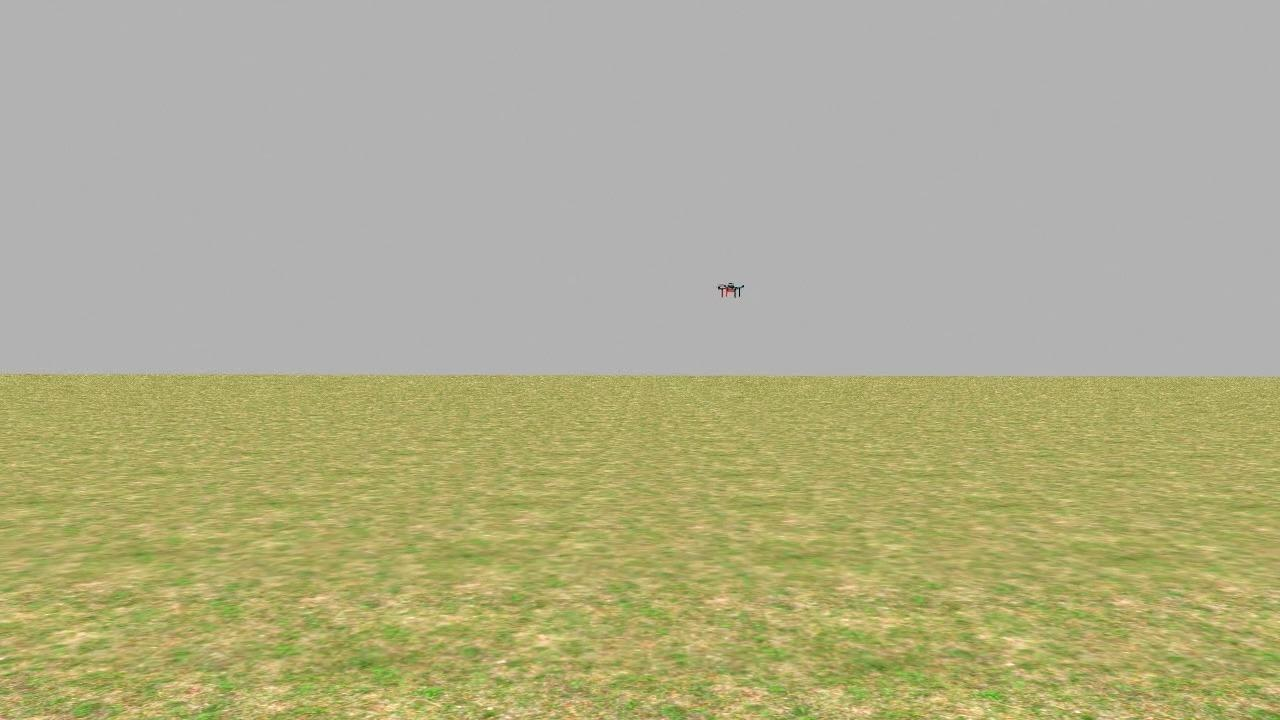UAV: (708, 270, 751, 308)
